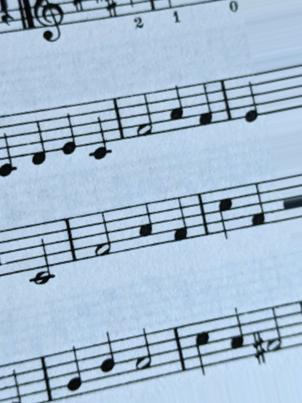note: (83, 98, 116, 166), (94, 329, 120, 396), (26, 105, 49, 172), (54, 102, 81, 159), (191, 318, 213, 384), (1, 113, 22, 182), (60, 344, 86, 398), (214, 185, 237, 244), (245, 177, 269, 233), (165, 80, 188, 137), (167, 193, 191, 247), (194, 79, 218, 131), (228, 306, 247, 369), (241, 71, 261, 126), (135, 195, 154, 252)
